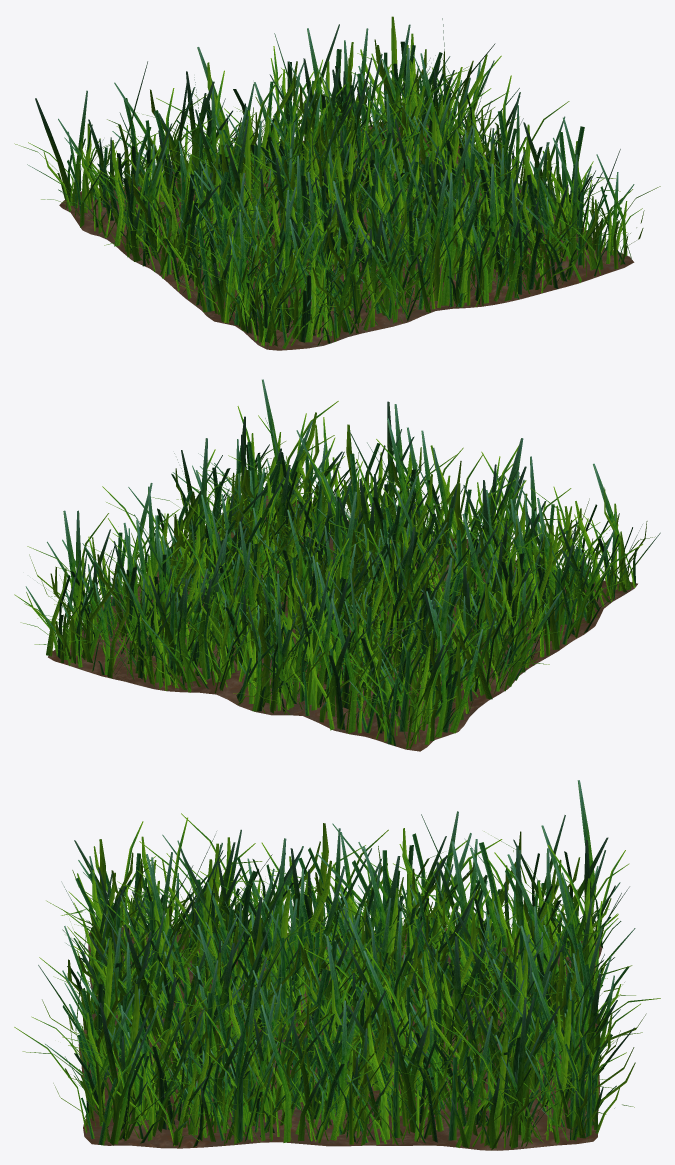
The model's file is grass.glb.
3 views of the same model, one above another, from view 1: azimuth 30°, elevation 25°; view 2: azimuth 150°, elevation 25°; view 3: azimuth 270°, elevation 25° (orthographic). The views are drawn at different scales.
Parts seen in each view (by area): view 1: Object_3, Object_4, Object_5, Object_2, Object_6; view 2: Object_3, Object_4, Object_5, Object_6, Object_2; view 3: Object_4, Object_3, Object_5, Object_2, Object_6.
Part boxes in pixels (x1=…): Object_3: x1=43, y1=16, x2=631, y2=348; Object_4: x1=80, y1=18, x2=644, y2=342; Object_5: x1=27, y1=24, x2=660, y2=348; Object_2: x1=59, y1=116, x2=634, y2=350; Object_6: x1=14, y1=53, x2=468, y2=346; Object_3: x1=26, y1=438, x2=647, y2=746; Object_4: x1=29, y1=379, x2=619, y2=733; Object_5: x1=14, y1=401, x2=660, y2=745; Object_6: x1=20, y1=446, x2=655, y2=748; Object_2: x1=48, y1=496, x2=637, y2=751; Object_4: x1=38, y1=811, x2=619, y2=1150; Object_3: x1=62, y1=823, x2=646, y2=1147; Object_5: x1=14, y1=780, x2=660, y2=1148; Object_2: x1=78, y1=926, x2=602, y2=1150; Object_6: x1=46, y1=813, x2=642, y2=1142.
Bounding box in the file's own units: 298 × 83.55 × 309.
Materials: 2 (2 with a texture image).
